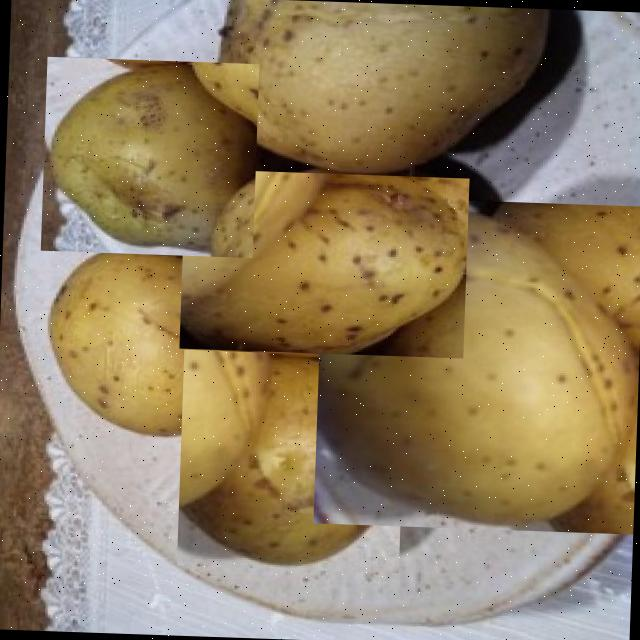Potato: (313, 194, 640, 533), (210, 0, 553, 178), (179, 167, 469, 357), (177, 348, 406, 572), (45, 232, 258, 440), (40, 55, 259, 256)
